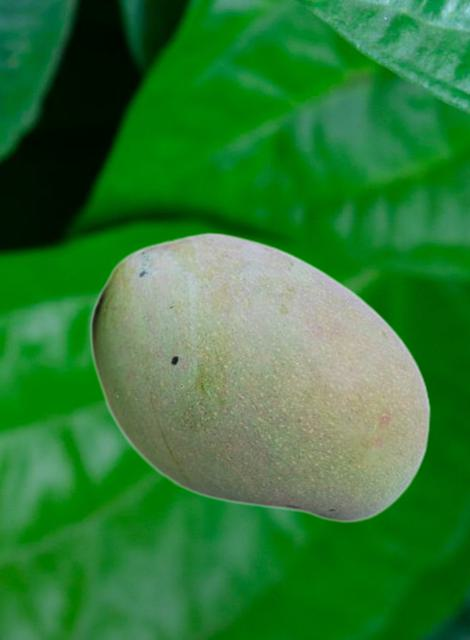green_mango: (89, 231, 430, 522)
